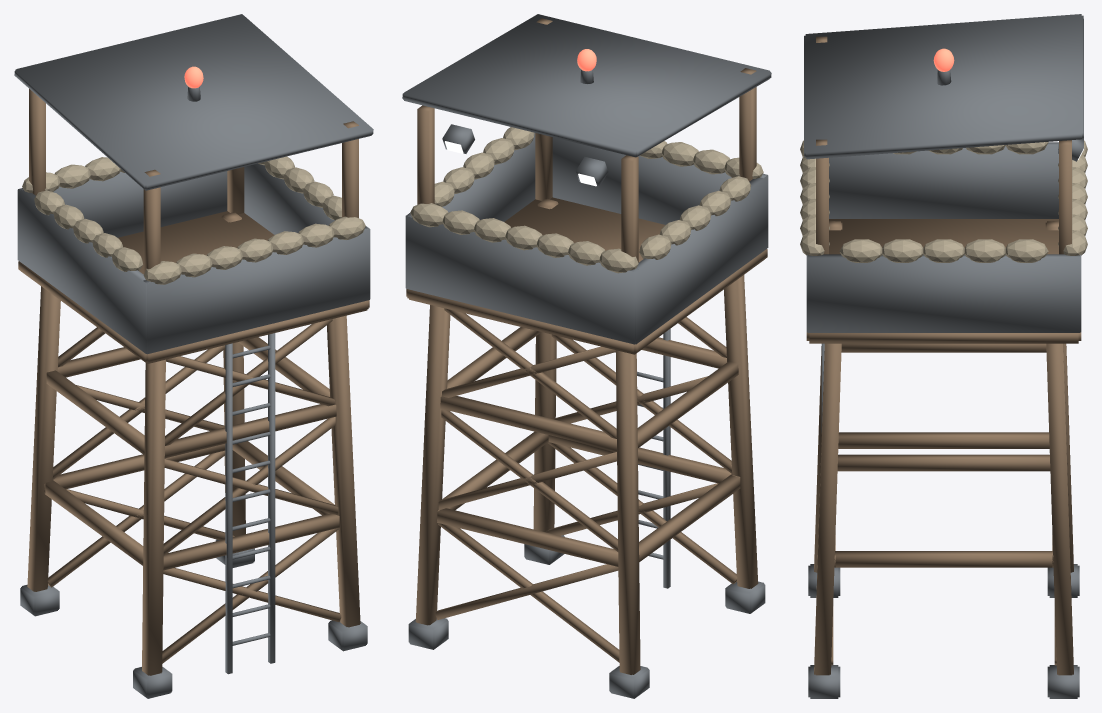
Rendered from watchtower.glb.
The picture shows the model from 3 angles, left to right: view 1: azimuth 30°, elevation 25°; view 2: azimuth 150°, elevation 25°; view 3: azimuth 270°, elevation 25°; orthographic projection. The views are drawn at different scales.
Parts seen in each view (by area): view 1: Watchtower; view 2: Watchtower; view 3: Watchtower.
Boxes of the visible parts, x1,y1,x2,y2 form: Watchtower: (14,14,373,698); Watchtower: (402,14,771,698); Watchtower: (800,14,1087,698).
Size of the model in its own units: 3.06 by 7 by 3.08.
